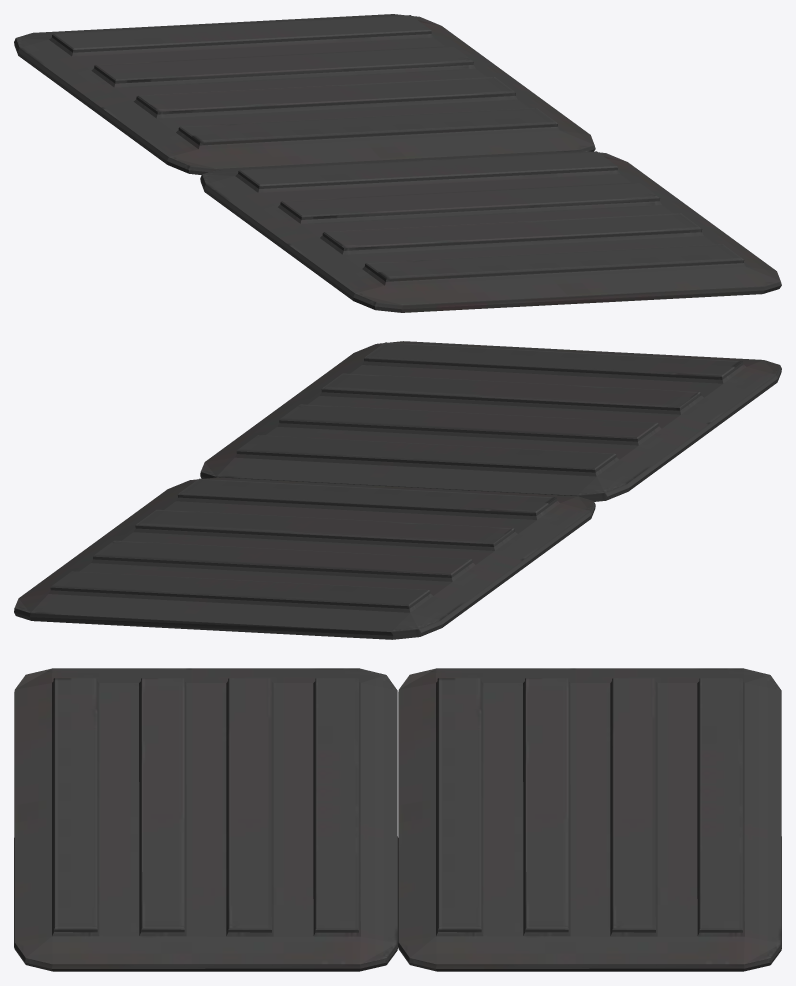
The model's file is strProp_17.glb.
3 views of the same model, one above another, from view 1: azimuth 30°, elevation 25°; view 2: azimuth 150°, elevation 25°; view 3: azimuth 270°, elevation 25° (orthographic). The views are drawn at different scales.
Parts seen in each view (by area): view 1: geometry_0; view 2: geometry_0; view 3: geometry_0.
Part boxes in pixels (x1,y1,x2,y2): geometry_0: (14,14,781,312); geometry_0: (14,341,781,639); geometry_0: (14,668,781,971).
Bounding box in the file's own units: 1.3 × 0.2794 × 1.98.
Materials: 1 (1 with a texture image).
